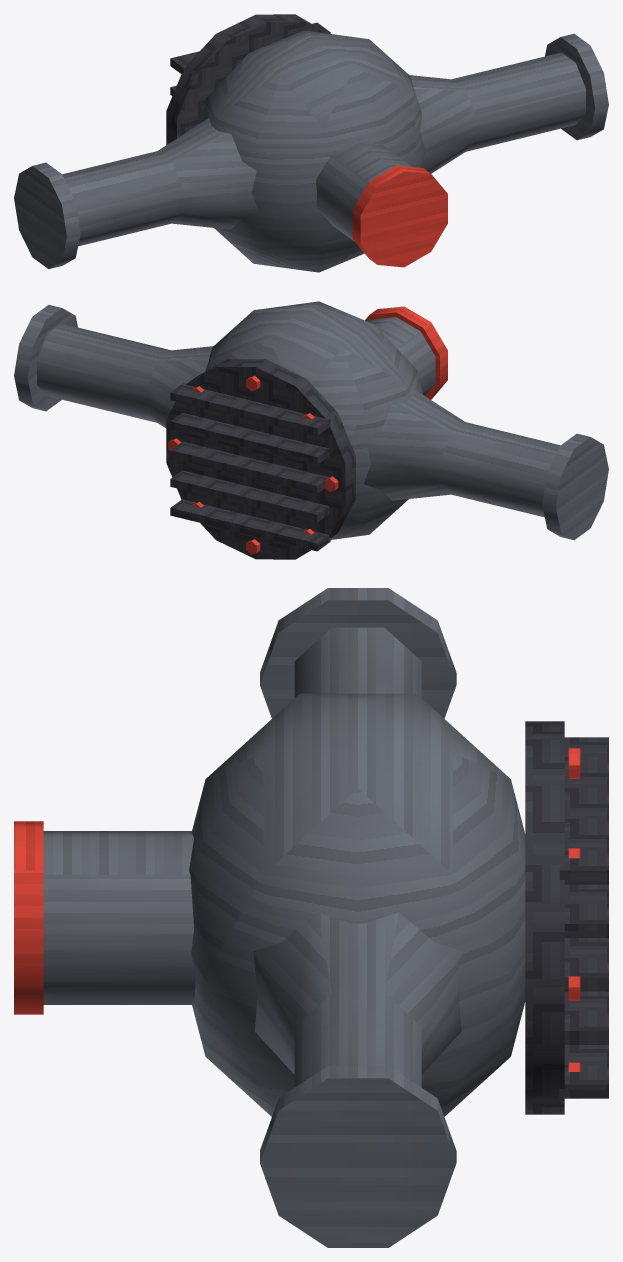
File: diferencial_n4.glb
3 views of the same model, one above another, from view 1: azimuth 30°, elevation 25°; view 2: azimuth 150°, elevation 25°; view 3: azimuth 270°, elevation 25° (orthographic). The views are drawn at different scales.
Visible parts, largest first — view 1: diferencial_n4; view 2: diferencial_n4; view 3: diferencial_n4.
Part boxes in pixels (x1,y1,x2,y2): diferencial_n4: (14, 14, 608, 272); diferencial_n4: (14, 301, 608, 559); diferencial_n4: (14, 588, 608, 1247).
Bounding box in the file's own units: 0.59 × 0.24 × 0.3025.
2 materials, 2 textured.
